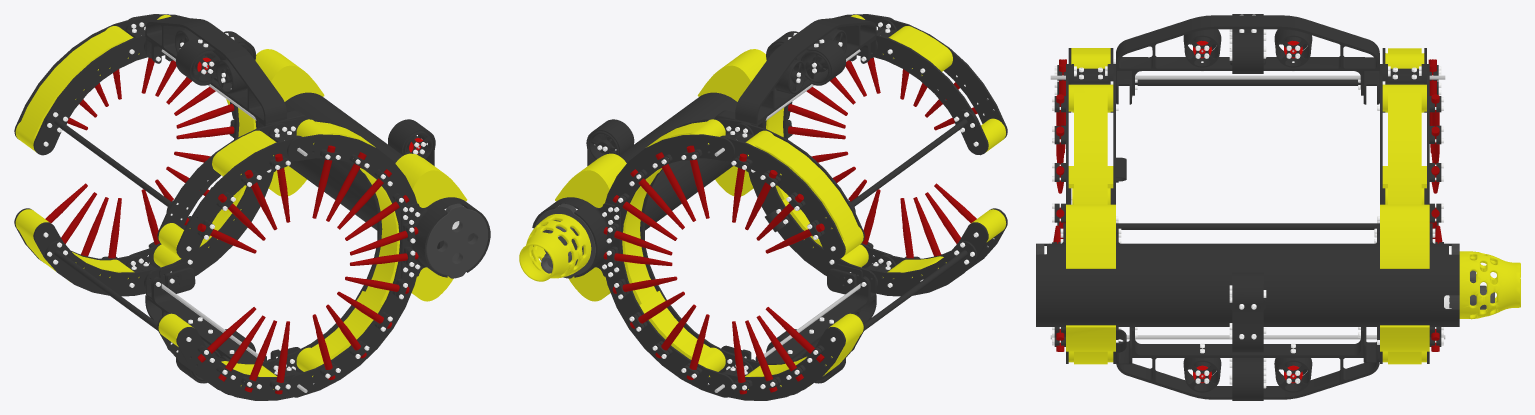
Rendered from COALA5.glb.
The picture shows the model from 3 angles, left to right: view 1: azimuth 30°, elevation 25°; view 2: azimuth 150°, elevation 25°; view 3: azimuth 270°, elevation 25°; orthographic projection. The views are drawn at different scales.
Parts seen in each view (by area): view 1: SubC-01-0005/SubC-02-0033; view 2: SubC-01-0005/SubC-02-0033; view 3: SubC-01-0005/SubC-02-0033.
Boxes of the visible parts, x1,y1,x2,y2 form: SubC-01-0005/SubC-02-0033: (14, 14, 490, 400); SubC-01-0005/SubC-02-0033: (519, 14, 1007, 400); SubC-01-0005/SubC-02-0033: (1036, 14, 1520, 400).
Bounding box in the file's own units: 313 × 303 × 357.
2 materials, 2 textured.
